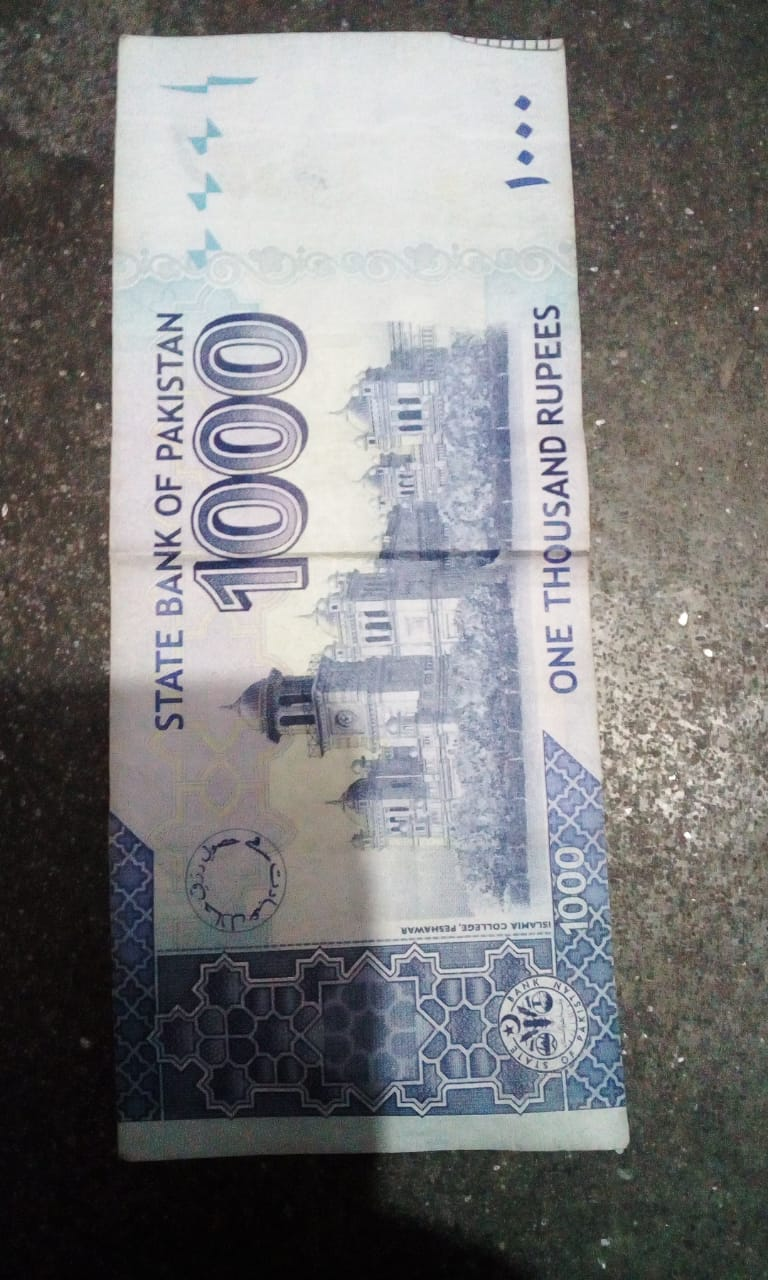1000 rupee: (63, 25, 651, 1168)
